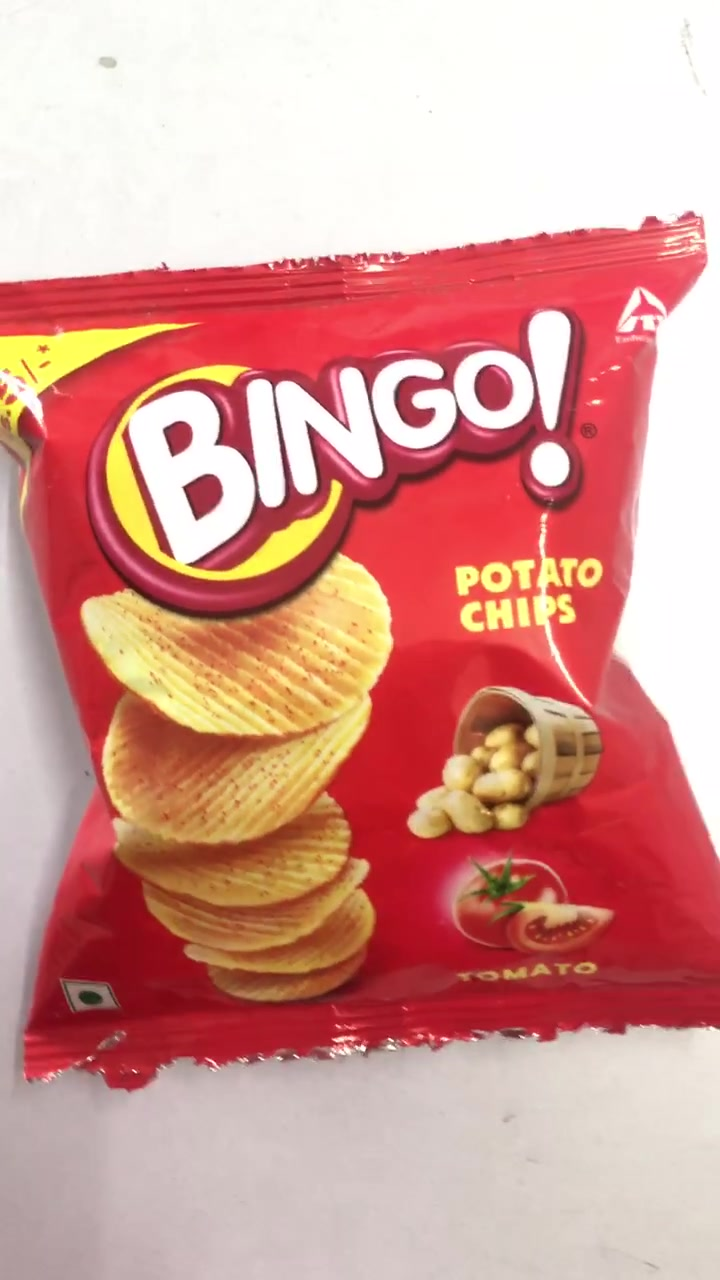Bingo: (12, 235, 720, 1038)
